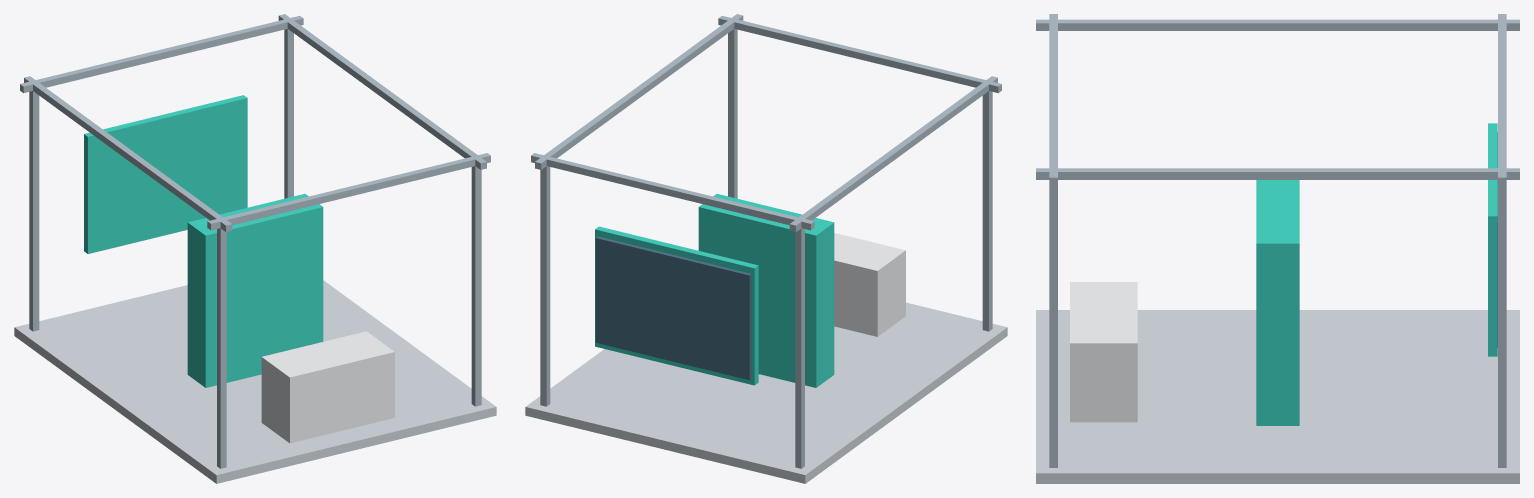
3 views of the same model, side by side, from view 1: azimuth 30°, elevation 25°; view 2: azimuth 150°, elevation 25°; view 3: azimuth 270°, elevation 25° (orthographic). The views are drawn at different scales.
Parts seen in each view (by area): view 1: Exhibition Booth Concept; view 2: Exhibition Booth Concept; view 3: Exhibition Booth Concept.
Boxes of the visible parts, <box> form: Exhibition Booth Concept: <box>14,14,496,483</box>; Exhibition Booth Concept: <box>525,14,1007,483</box>; Exhibition Booth Concept: <box>1036,14,1519,483</box>.
Bounding box in the file's own units: 4 × 3.49 × 5.
